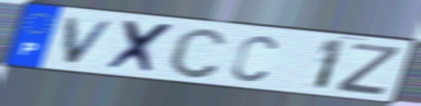1: (313, 37, 347, 92)
C: (166, 26, 230, 80), (229, 33, 280, 83)
V: (62, 16, 119, 67)
X: (104, 18, 178, 76)
Z: (333, 41, 404, 97)
